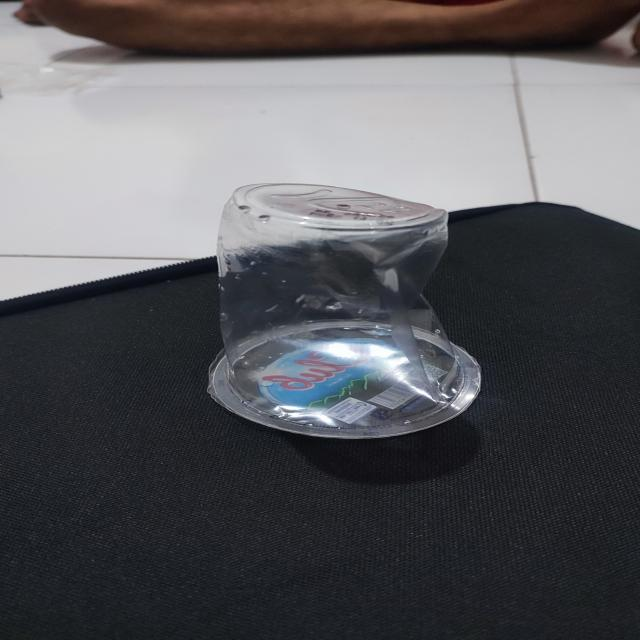air-gelas-rusak: (197, 174, 481, 444)
